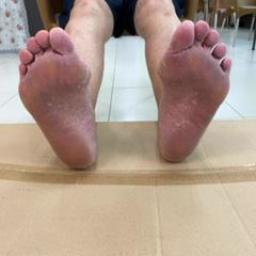Plantar View -Both Feet-: (4, 6, 243, 192)
